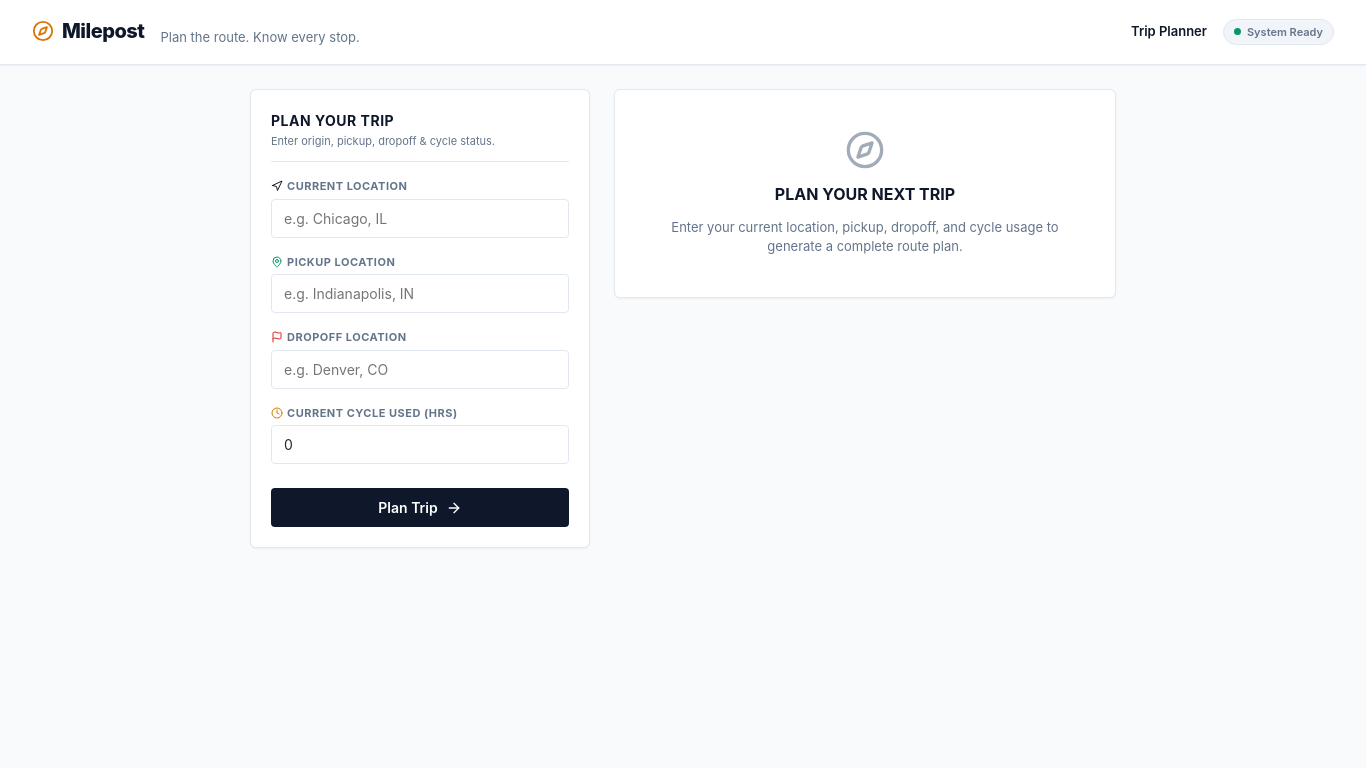
Test: App States and Integration › shows network error if fetch rejects
The width and height of the screenshot is (1366, 768).
In the field labelled "Current Location": (420, 218) [271,198,569,238], type "Chicago, IL"
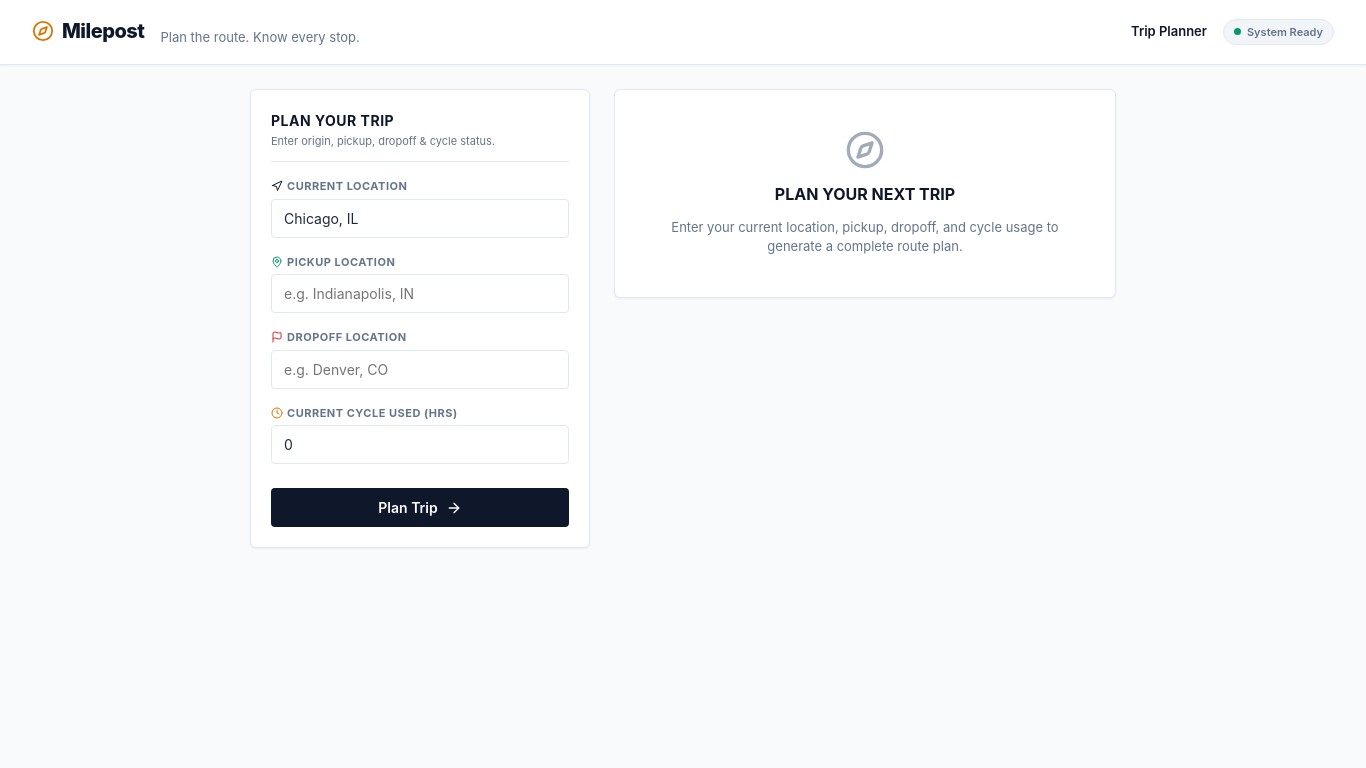
In the field labelled "Pickup Location": (420, 294) [271,274,569,313], type "Indy, IN"
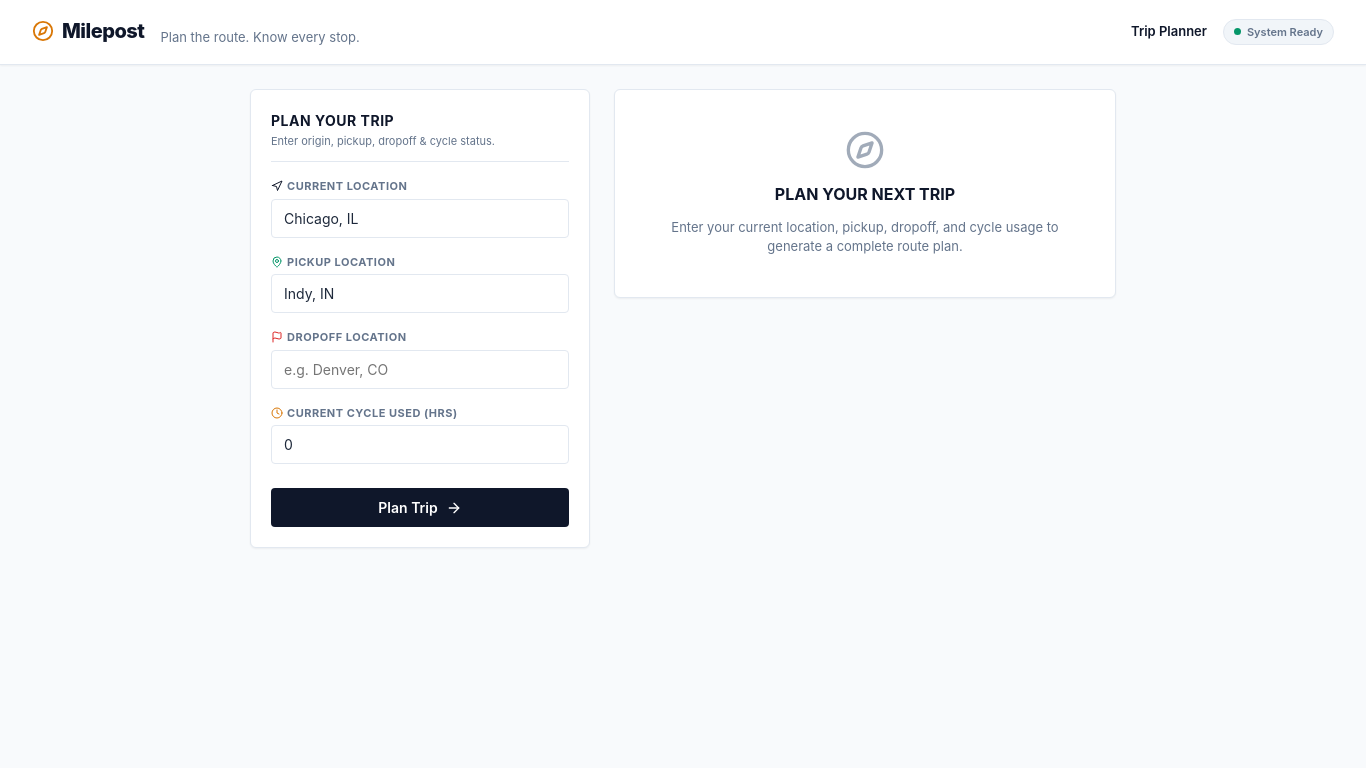
In the field labelled "Dropoff Location": (420, 369) [271,350,569,388], type "Denver, CO"
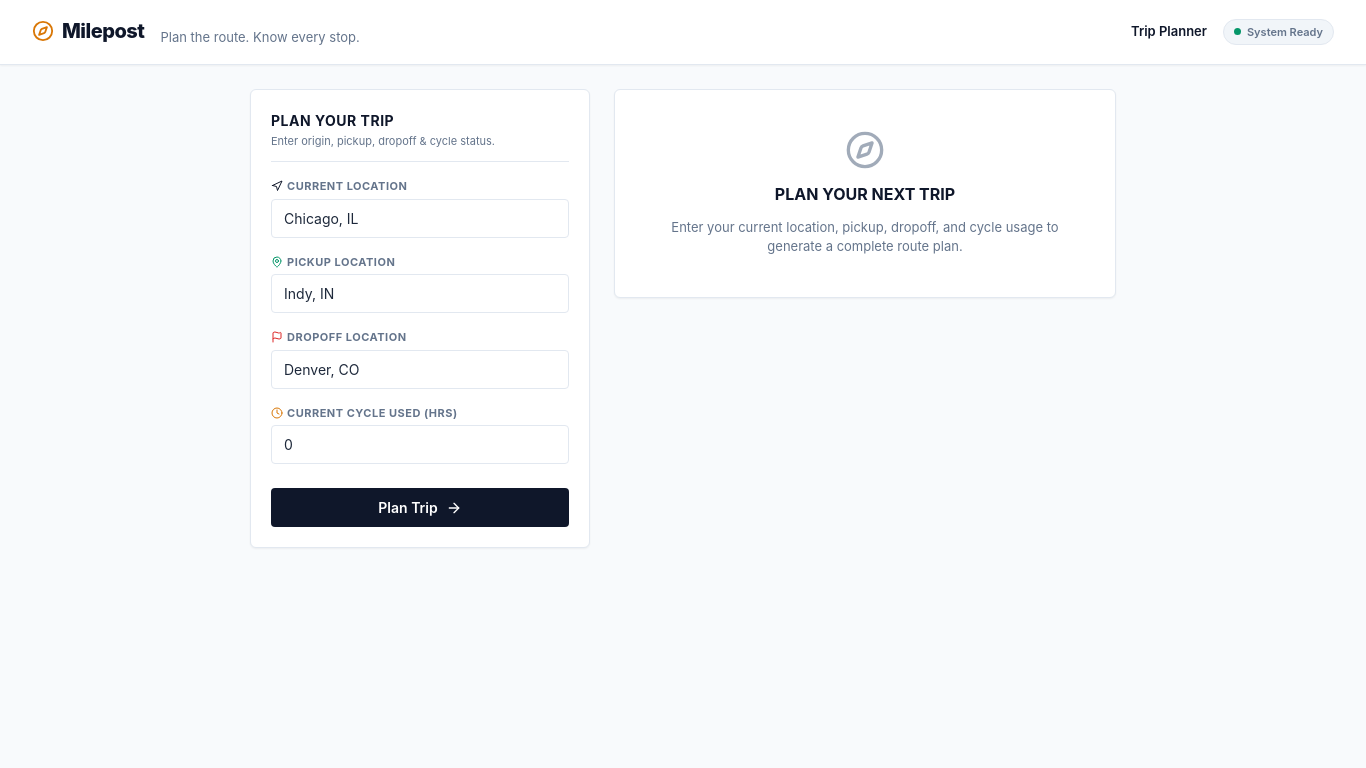
Submit the form with test id "planner-form", box [271,178,569,527]
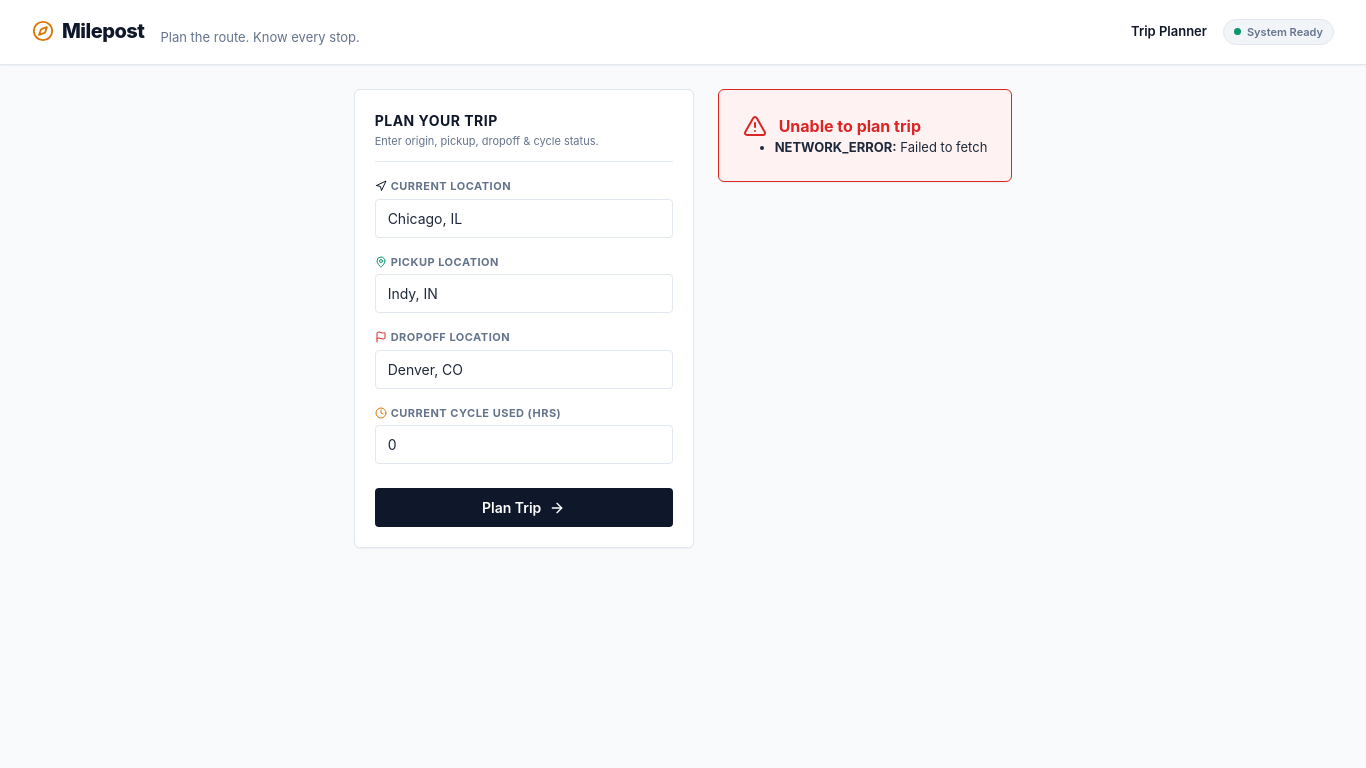
Now the element with test id "error-state" is shown, box [718,88,1012,182]
Now the element with test id "error-state" shows "NETWORK_ERROR", box [775,138,892,154]
